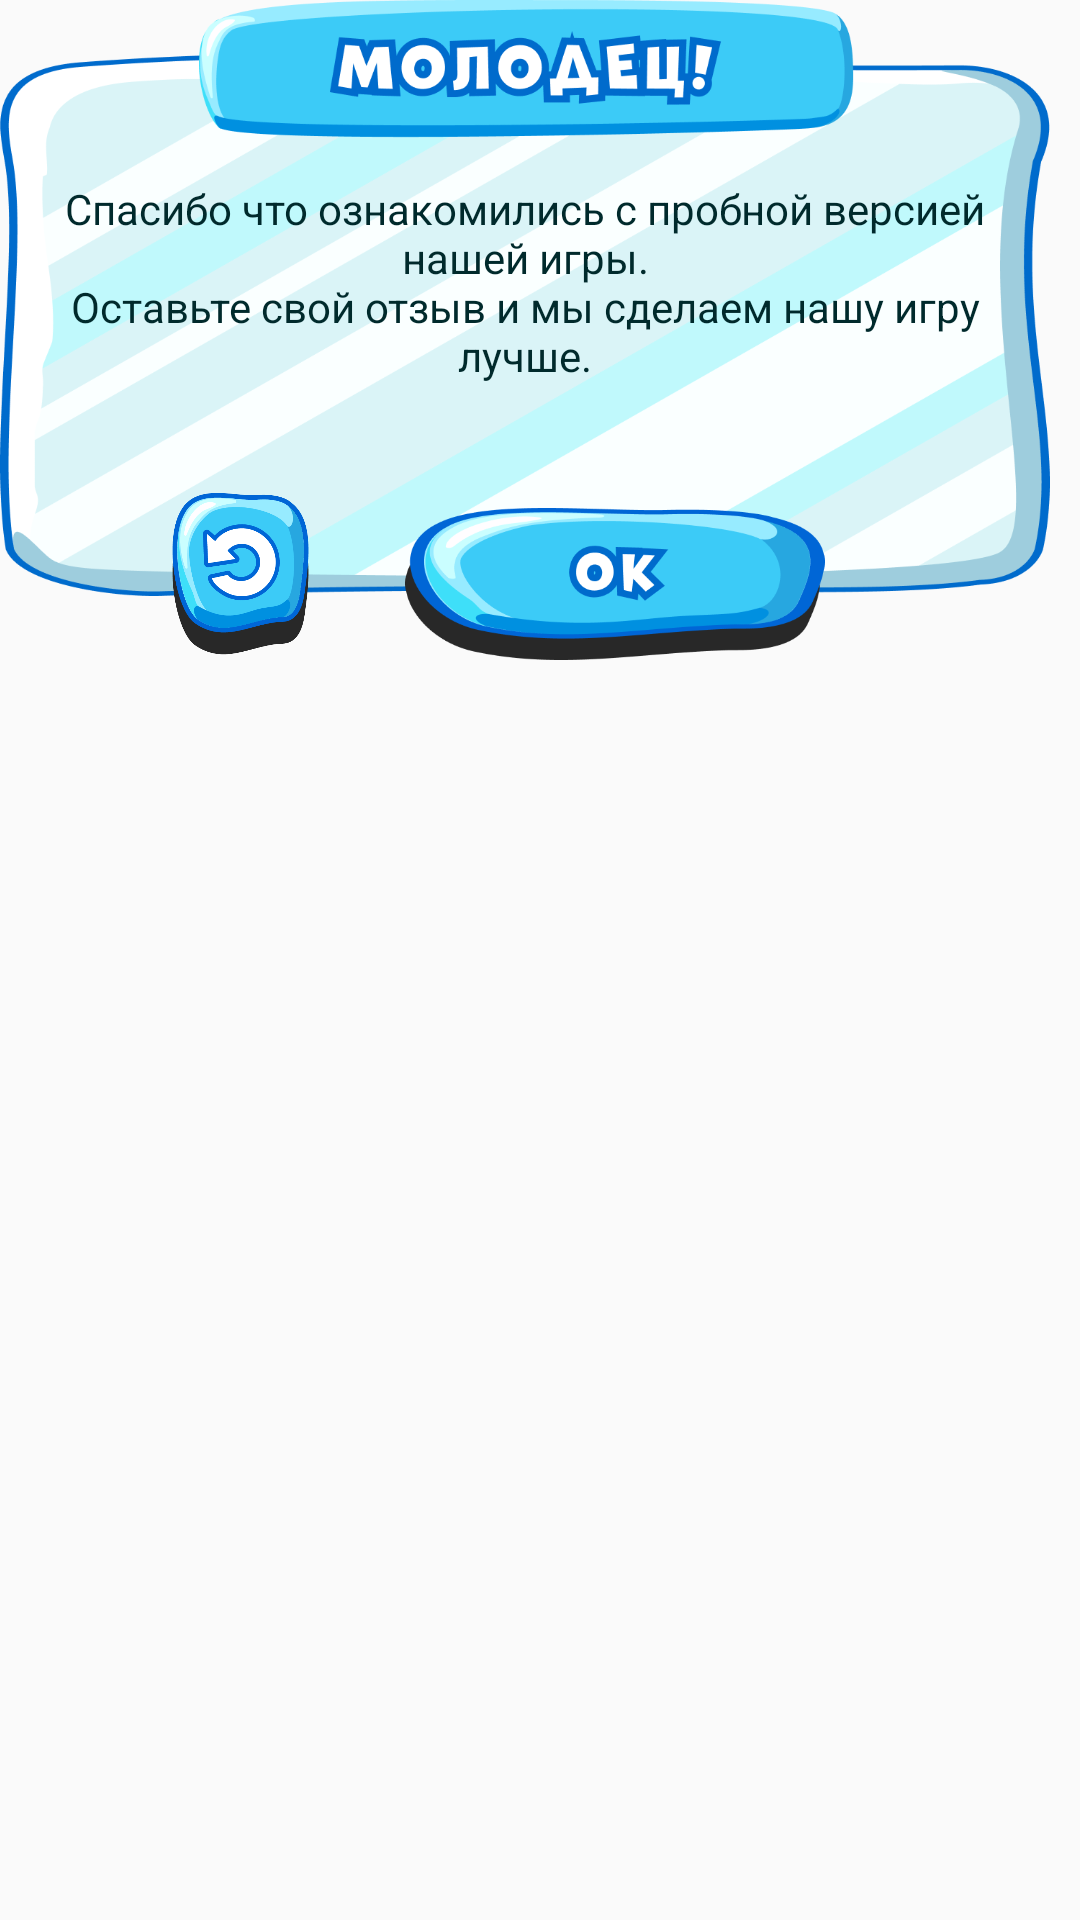

Named icons in this screenshot (1080 x 1920) and their centers, [x,y]:
again: [240,574]
